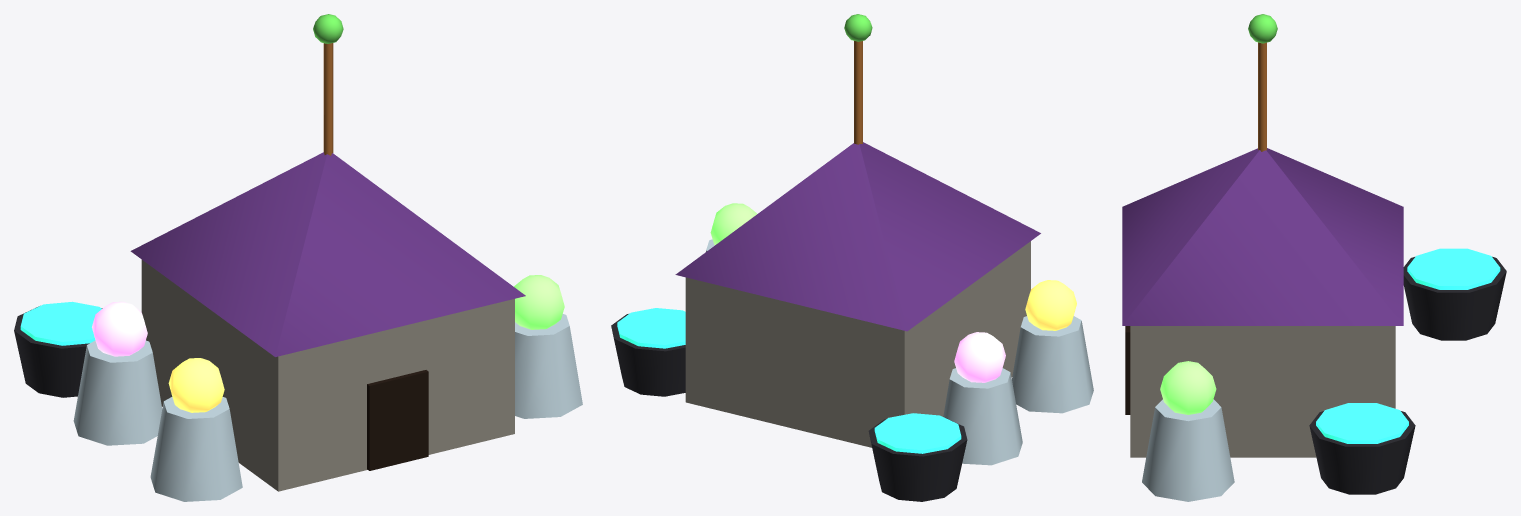
Rendered from goblin-level4.glb.
3 renders of one model, left to right at view 1: azimuth 30°, elevation 25°; view 2: azimuth 150°, elevation 25°; view 3: azimuth 270°, elevation 25°, orthographic. The views are drawn at different scales.
Bounding box in the file's own units: 2.86 × 2.57 × 2.32.
